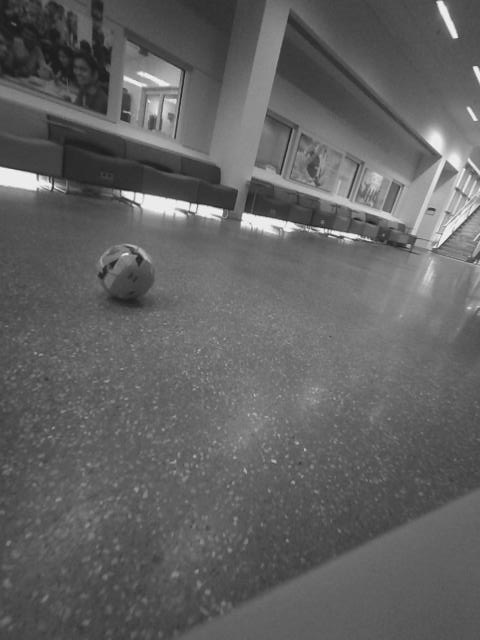ball: (64, 222, 117, 271)
